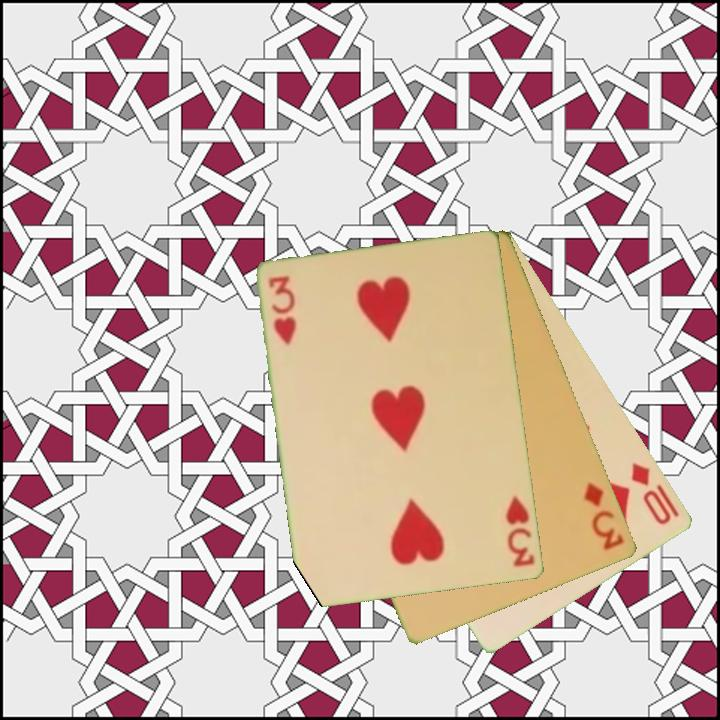10d: (628, 459, 675, 528)
3d: (580, 478, 628, 554)
3h: (502, 492, 538, 571), (265, 272, 300, 348)
